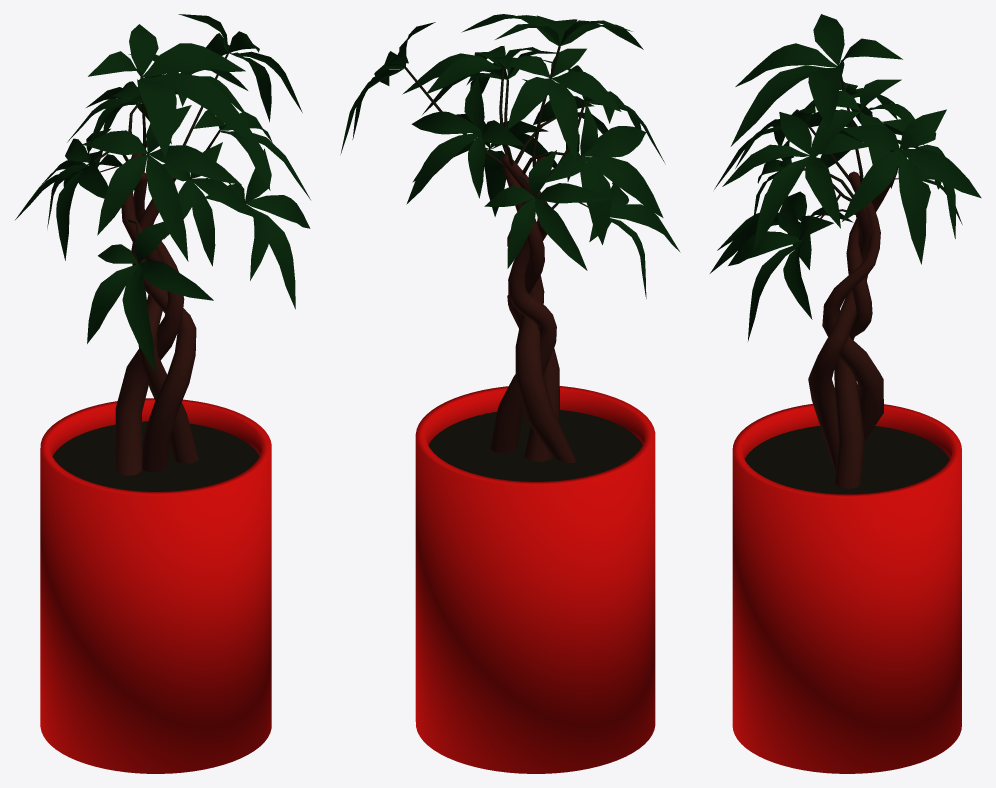
File: SpiralTree.fbx
3 renders of one model, left to right at view 1: azimuth 30°, elevation 25°; view 2: azimuth 150°, elevation 25°; view 3: azimuth 270°, elevation 25°, orthographic. The views are drawn at different scales.
Parts seen in each view (by area): view 1: pottedplant (×5); view 2: pottedplant (×5); view 3: pottedplant (×5).
Boxes of the visible parts, bbox=[...] form: pottedplant (×5): bbox=[15, 14, 310, 773]; pottedplant (×5): bbox=[340, 14, 680, 773]; pottedplant (×5): bbox=[710, 14, 981, 773].
Bounding box in the file's own units: 51.56 × 131 × 47.54.
